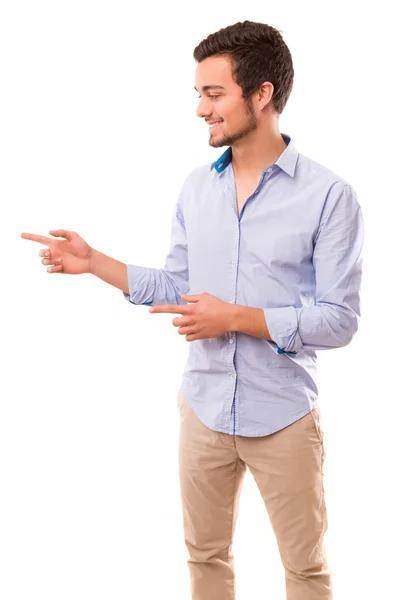long sleeve shirt: (121, 130, 368, 442)
trousers: (177, 390, 331, 600)
